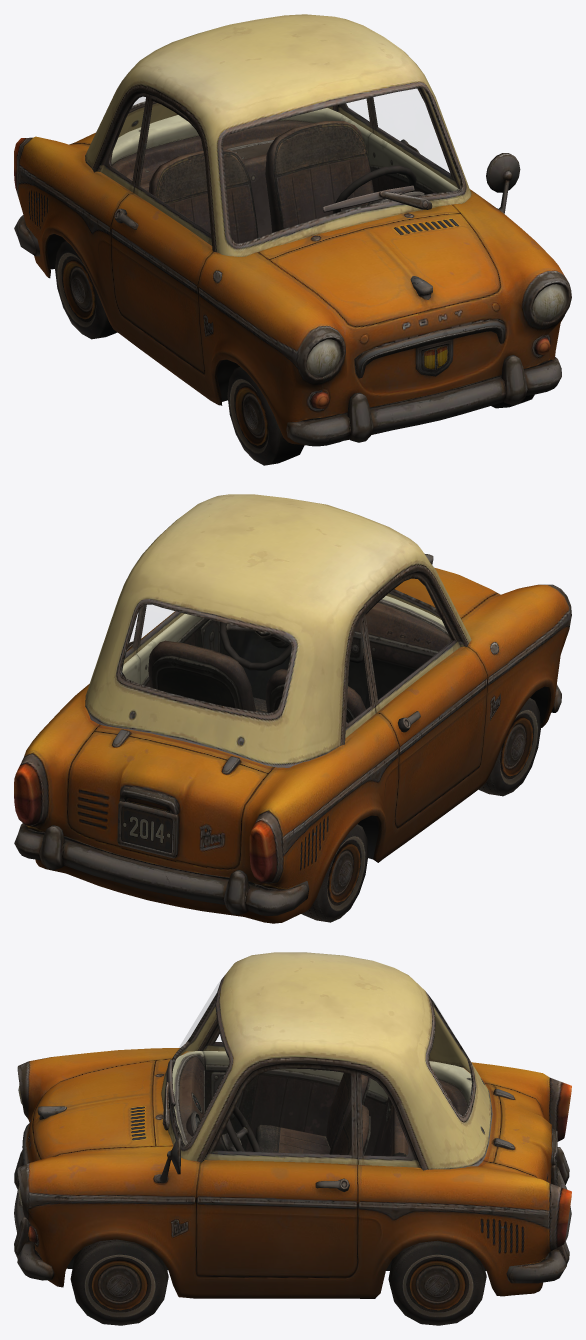
Rendered from Pony Car.fbx.
The picture shows the model from 3 angles, top to bottom: view 1: azimuth 30°, elevation 25°; view 2: azimuth 150°, elevation 25°; view 3: azimuth 270°, elevation 25°; orthographic projection. The views are drawn at different scales.
Parts seen in each view (by area): view 1: BODY, FRW, BRW, SteeringWheel; view 2: BODY, BRW, FRW, SteeringWheel; view 3: BODY, FLW, BLW, SteeringWheel.
Part boxes in pixels (box(x1,y1,x2,y2)): BODY: box(14, 14, 571, 446); FRW: box(227, 367, 304, 465); BRW: box(55, 241, 117, 339); SteeringWheel: box(332, 165, 416, 213); BODY: box(14, 494, 571, 923); BRW: box(301, 824, 368, 922); FRW: box(478, 698, 540, 796); SteeringWheel: box(219, 622, 291, 670); BODY: box(14, 952, 571, 1298); FLW: box(70, 1239, 168, 1325); BLW: box(388, 1240, 486, 1325); SteeringWheel: box(214, 1106, 260, 1151).
Size of the model in its own units: 403 by 375 by 665.
